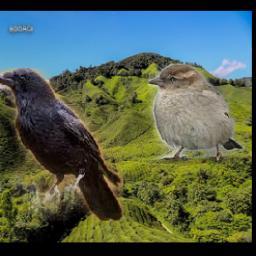Crow: (0, 69, 123, 222)
Sparrow: (147, 64, 244, 165)
